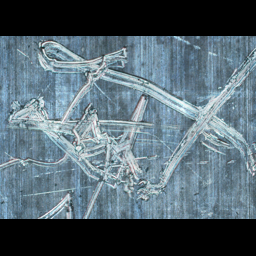d: (136, 59, 256, 195), (60, 99, 163, 202), (30, 39, 135, 89), (3, 92, 64, 137), (0, 143, 71, 171), (31, 185, 82, 219)
